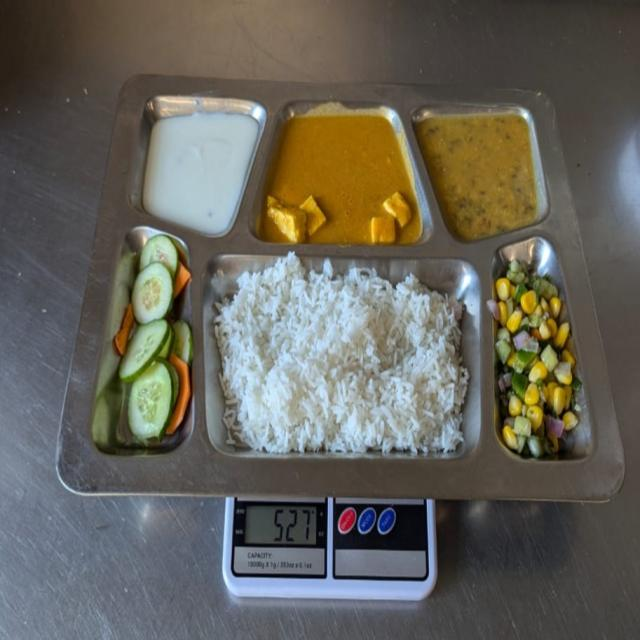Chaat: (497, 280, 572, 455)
Dal: (436, 118, 531, 228)
Paneer Curry: (277, 118, 407, 246)
Raita: (154, 120, 245, 218)
Salad: (130, 247, 187, 442)
White Rice: (231, 275, 462, 453)
